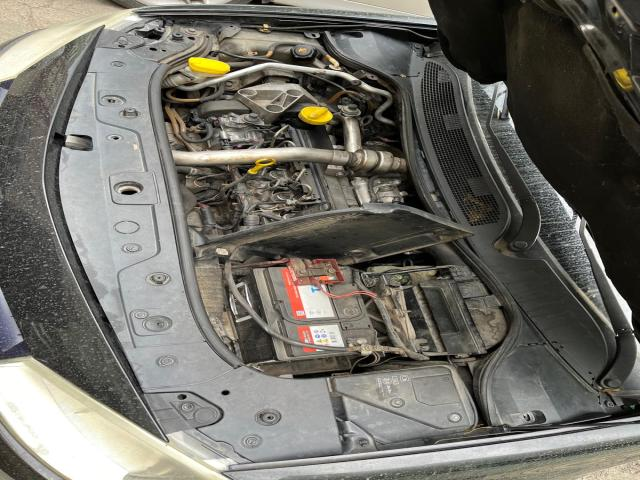accumulator: (228, 258, 378, 363)
antifreeze_tank: (218, 28, 325, 65), (215, 53, 253, 71)
fuse_box: (328, 362, 477, 454)
high_pressure_pump: (212, 112, 263, 150)
